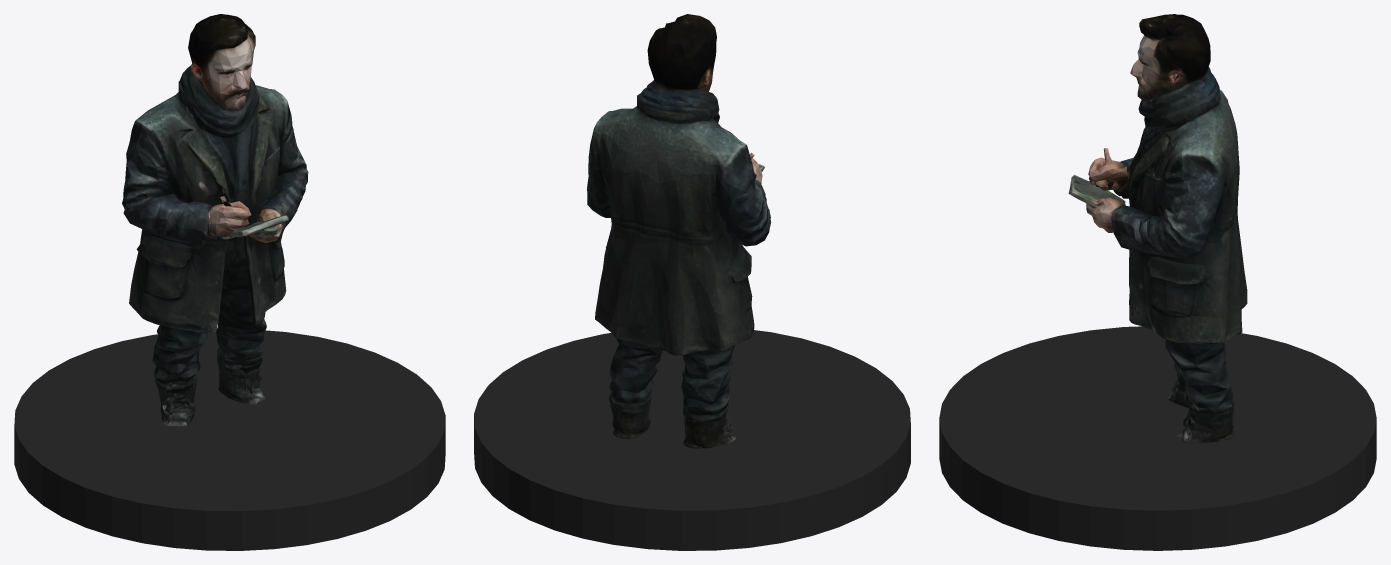
Rendered from james-meyers.glb.
3 views of the same model, side by side, from view 1: azimuth 30°, elevation 25°; view 2: azimuth 150°, elevation 25°; view 3: azimuth 270°, elevation 25° (orthographic).
Visible parts, largest first — view 1: base, figure; view 2: base, figure; view 3: base, figure.
Part boxes in pixels (left/top/right/bottom): base: left=14, top=330, right=445, bottom=550; figure: left=122, top=14, right=308, bottom=426; base: left=474, top=330, right=910, bottom=550; figure: left=587, top=14, right=771, bottom=448; base: left=939, top=326, right=1376, bottom=550; figure: left=1068, top=14, right=1247, bottom=443.
Bounding box in the file's own units: 1.18 × 1.32 × 1.18.
2 materials, 1 textured.
